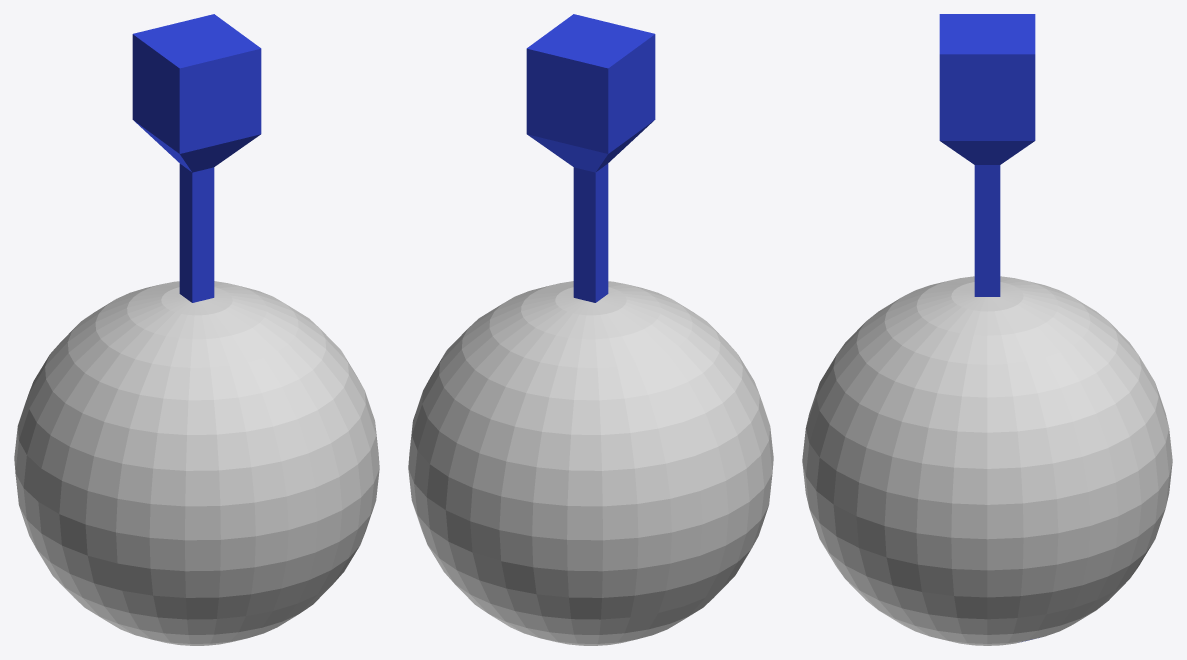
Rendered from discoball.fbx.
3 views of the same model, side by side, from view 1: azimuth 30°, elevation 25°; view 2: azimuth 150°, elevation 25°; view 3: azimuth 270°, elevation 25° (orthographic).
Visible parts, largest first — view 1: Cube; view 2: Cube; view 3: Cube.
Part boxes in pixels (box(x1,y1,x2,y2)): Cube: box(14, 14, 379, 645); Cube: box(408, 14, 773, 645); Cube: box(802, 14, 1172, 645).
Bounding box in the file's own units: 142 × 251 × 142.
